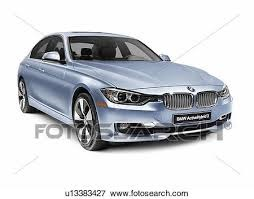bmw: (3, 25, 240, 152)
